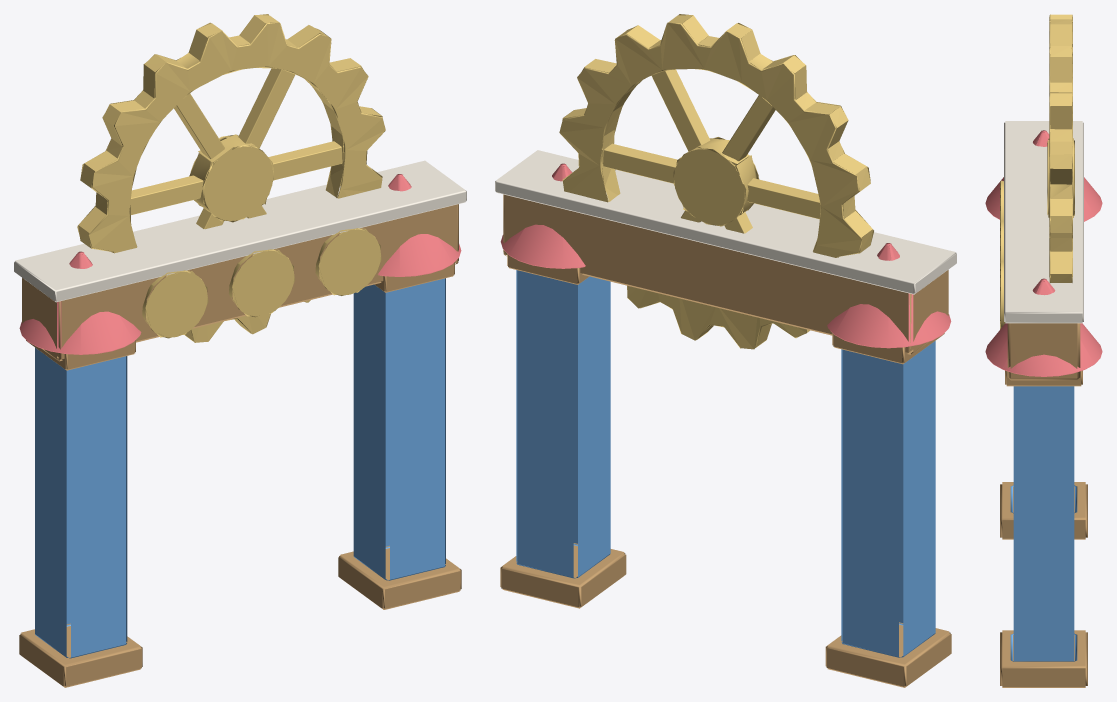
The model's file is star_gate_clockwork.glb.
The picture shows the model from 3 angles, left to right: view 1: azimuth 30°, elevation 25°; view 2: azimuth 150°, elevation 25°; view 3: azimuth 270°, elevation 25°; orthographic projection. The views are drawn at different scales.
Visible parts, largest first — view 1: ArchGear, Pillar_-4.6, Pillar_4.6, ArchTrim, ArchBeam, ArchGear_Hub, Base_-4.6, Base_4.6, PillarRoof_-4.6, Socket_0, Socket_1, Socket_2 (+3 smaller); view 2: ArchGear, Pillar_-4.6, Pillar_4.6, ArchBeam, ArchTrim, ArchGear_Hub, Base_-4.6, Base_4.6, PillarRoof_-4.6, PillarRoof_4.6, Collar_-4.6, Collar_4.6; view 3: Pillar_4.6, ArchTrim, ArchGear, ArchBeam, Base_4.6, PillarRoof_4.6, Base_-4.6, PillarRoof_-4.6, Collar_4.6, ArchGear_Hub, Socket_2.
Boxes of the visible parts, left/top/right/bottom form: ArchGear: left=77, top=14, right=385, bottom=342; Pillar_-4.6: left=35, top=347, right=127, bottom=658; Pillar_4.6: left=353, top=278, right=445, bottom=580; ArchTrim: left=14, top=160, right=466, bottom=302; ArchBeam: left=22, top=204, right=458, bottom=361; ArchGear_Hub: left=189, top=134, right=273, bottom=222; Base_-4.6: left=19, top=623, right=142, bottom=687; Base_4.6: left=338, top=545, right=461, bottom=609; PillarRoof_-4.6: left=19, top=251, right=141, bottom=354; Socket_0: left=142, top=270, right=208, bottom=338; Socket_1: left=228, top=249, right=294, bottom=317; Socket_2: left=315, top=228, right=381, bottom=295; ArchGear: left=559, top=14, right=873, bottom=349; Pillar_-4.6: left=841, top=341, right=935, bottom=657; Pillar_4.6: left=516, top=270, right=610, bottom=578; ArchBeam: left=503, top=194, right=948, bottom=354; ArchTrim: left=495, top=150, right=956, bottom=294; ArchGear_Hub: left=673, top=137, right=759, bottom=226; Base_-4.6: left=825, top=622, right=951, bottom=687; Base_4.6: left=500, top=543, right=626, bottom=608; PillarRoof_-4.6: left=827, top=243, right=951, bottom=348; PillarRoof_4.6: left=500, top=163, right=585, bottom=268; Collar_-4.6: left=832, top=333, right=944, bottom=364; Collar_4.6: left=507, top=254, right=589, bottom=284; Pillar_4.6: left=1010, top=386, right=1077, bottom=661; ArchTrim: left=1004, top=121, right=1083, bottom=323; ArchGear: left=1049, top=14, right=1072, bottom=282; ArchBeam: left=1007, top=323, right=1080, bottom=380; Base_4.6: left=1000, top=630, right=1087, bottom=687; PillarRoof_4.6: left=985, top=278, right=1102, bottom=376; Base_-4.6: left=1000, top=482, right=1087, bottom=539; PillarRoof_-4.6: left=985, top=130, right=1102, bottom=221; Collar_4.6: left=1005, top=370, right=1082, bottom=386; ArchGear_Hub: left=1047, top=138, right=1074, bottom=217; Socket_2: left=1000, top=261, right=1005, bottom=329.
Size of the model in its own units: 12.27 by 16.39 by 3.07.
